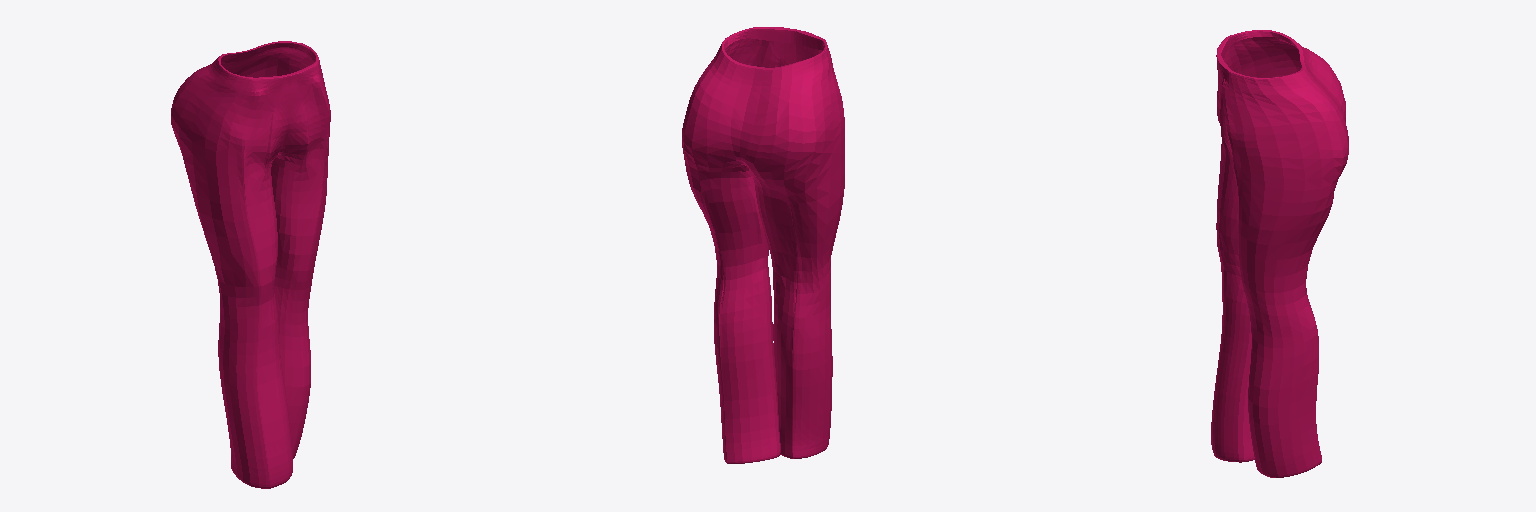
The model's file is geziku1.obj.
The picture shows the model from 3 angles: view 1: azimuth 30°, elevation 25°; view 2: azimuth 150°, elevation 25°; view 3: azimuth 270°, elevation 25°; orthographic projection.
Parts seen in each view (by area): view 1: geziku; view 2: geziku; view 3: geziku.
Boxes of the visible parts, x1=… form: geziku: x1=171, y1=41, x2=330, y2=488; geziku: x1=682, y1=27, x2=844, y2=463; geziku: x1=1211, y1=30, x2=1348, y2=477.
Bounding box in the file's own units: 1.99 × 5.83 × 1.77.